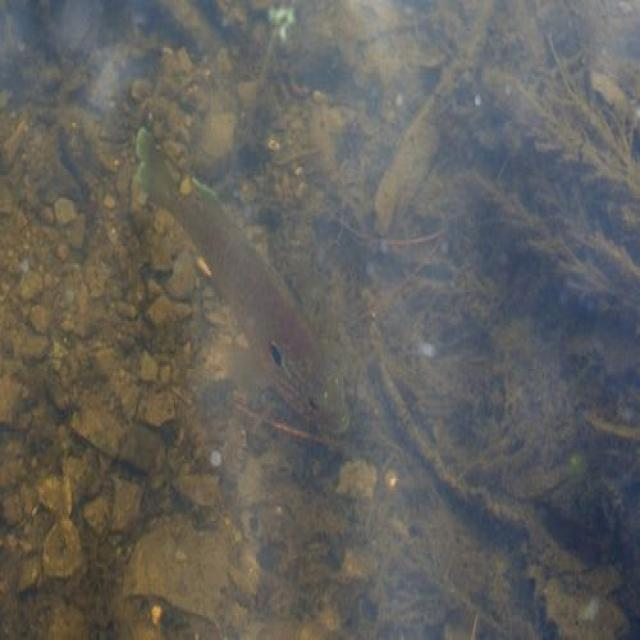Gunes Levregi: (136, 128, 354, 450)
